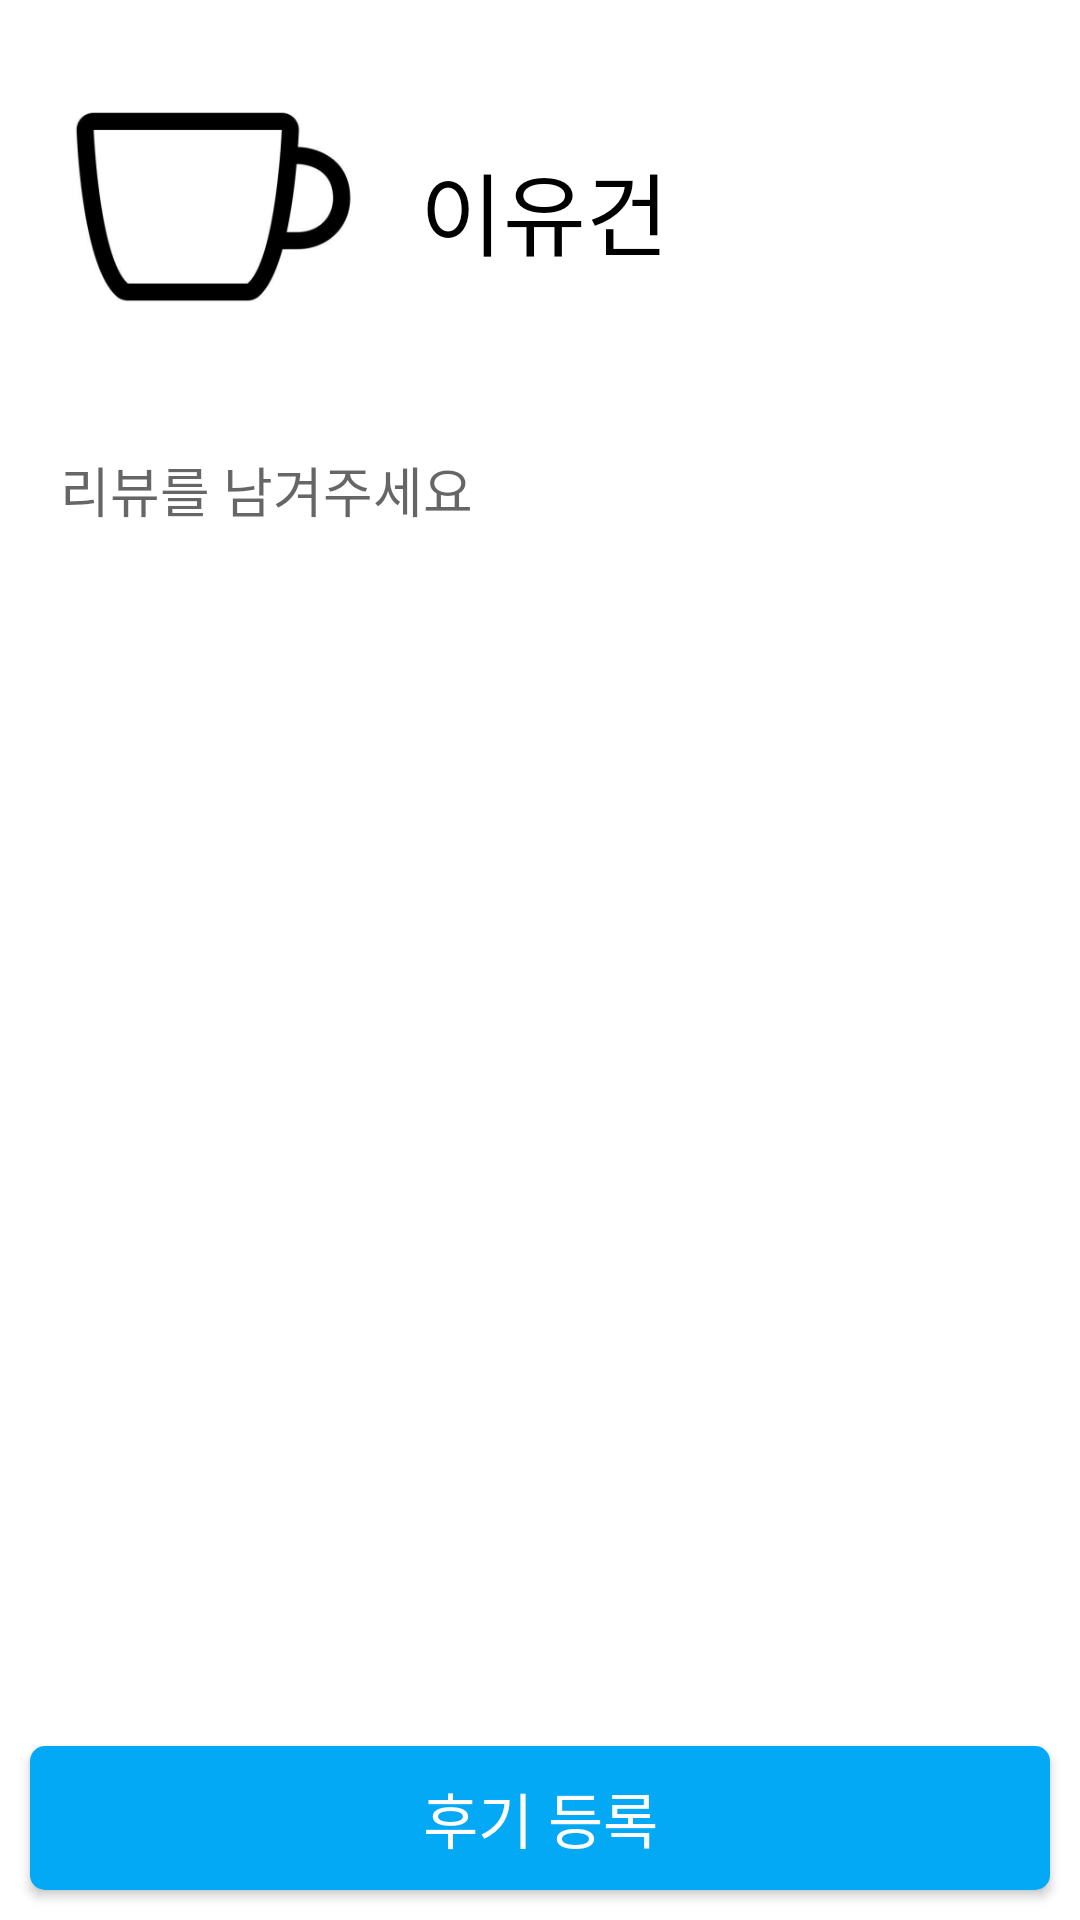

Where to tap for icons on this 1080x1920 app screen, as (x=x, y=y):
cafecupimg: (x=213, y=206)
